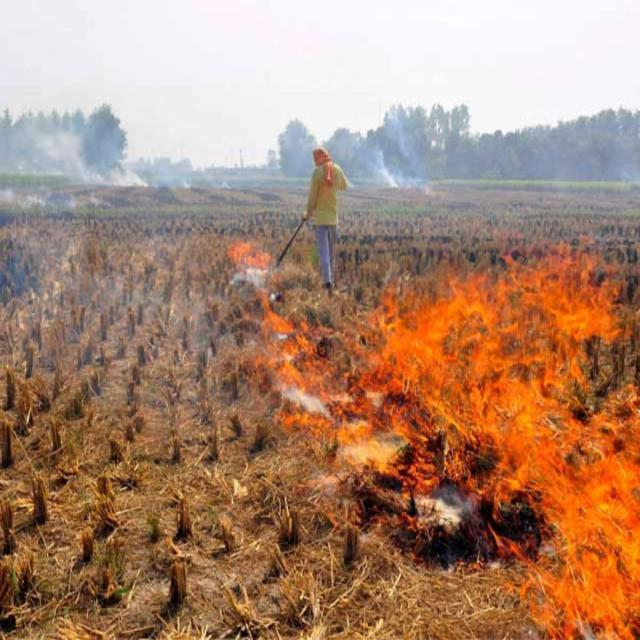Fire: (234, 226, 616, 620)
